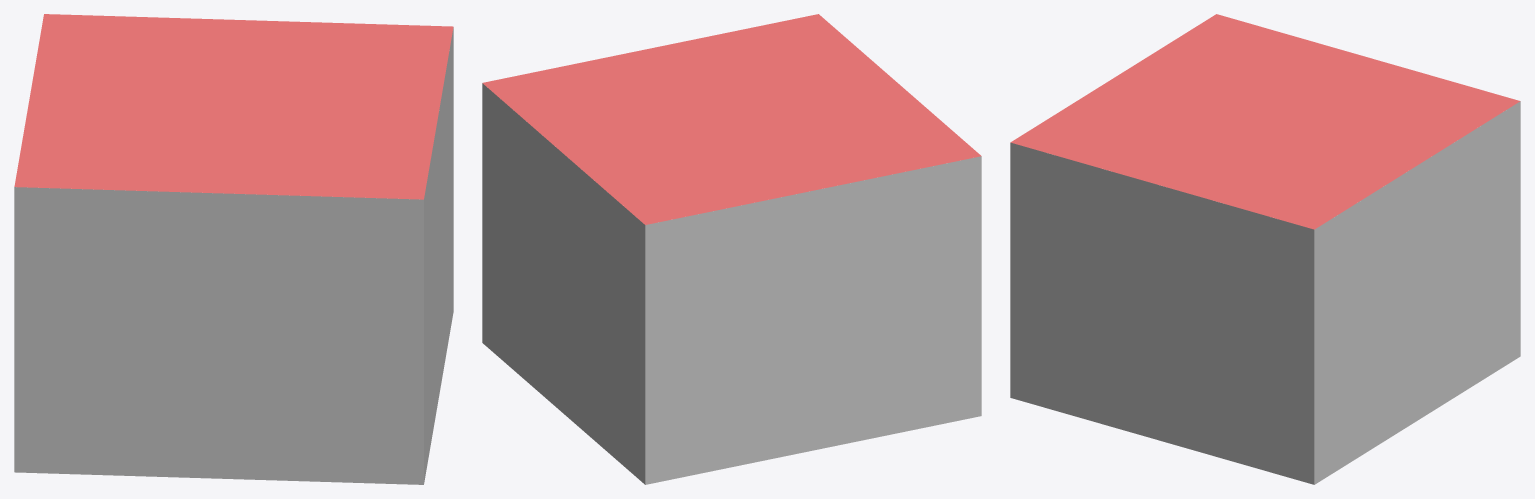
The picture shows the model from 3 angles, left to right: view 1: azimuth 30°, elevation 25°; view 2: azimuth 150°, elevation 25°; view 3: azimuth 270°, elevation 25°; orthographic projection. The views are drawn at different scales.
Parts seen in each view (by area): view 1: Z_UP; view 2: Z_UP; view 3: Z_UP.
Boxes of the visible parts, box(x1,y1,x2,y2) form: Z_UP: box(14, 14, 453, 484); Z_UP: box(482, 14, 981, 484); Z_UP: box(1010, 14, 1520, 484).
Bounding box in the file's own units: 23.61 × 13.04 × 23.61.
